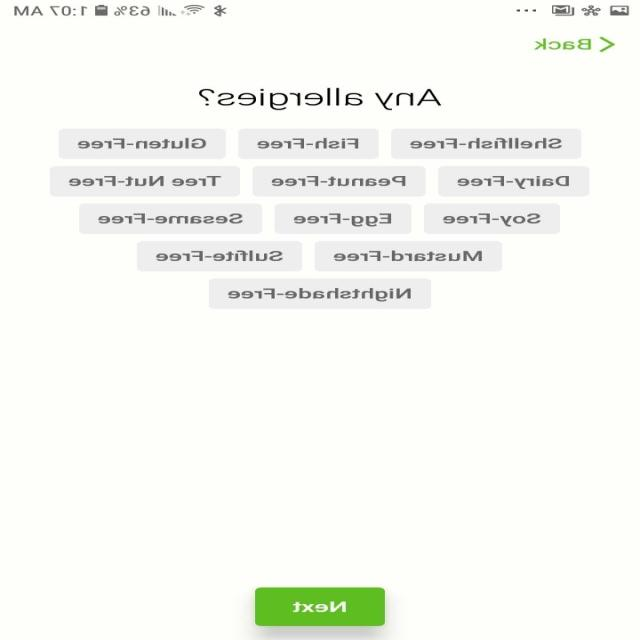Icon: (599, 36, 616, 52)
Text: (533, 38, 592, 50)
TextButton: (209, 278, 432, 309), (314, 240, 503, 272), (391, 128, 582, 159), (51, 166, 241, 197), (80, 203, 263, 234), (253, 166, 427, 197), (137, 240, 303, 272), (60, 128, 226, 159), (255, 587, 386, 626), (438, 166, 590, 197), (238, 128, 380, 159), (274, 203, 412, 234), (424, 203, 560, 234)
